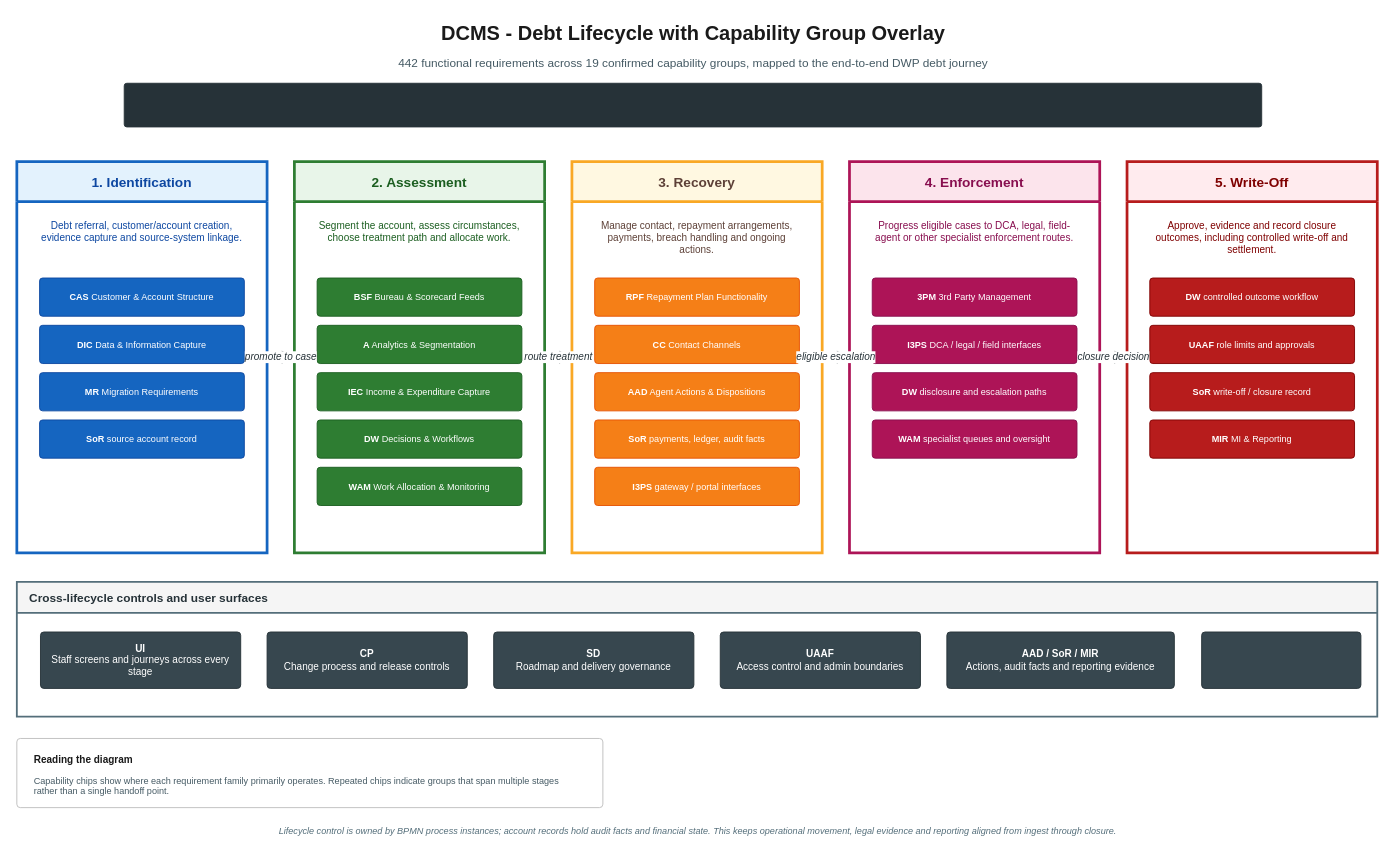
This 1394x859 diagram has some shape labels left out. Each missing label, with the centre of its shape:
"DW BPMN lifecycle control across the journey" goes at pixel 1281 659.
"Scope anchor: Identification - Assessment - Recovery - Enforcement - Write-Off" goes at pixel 692 104.
